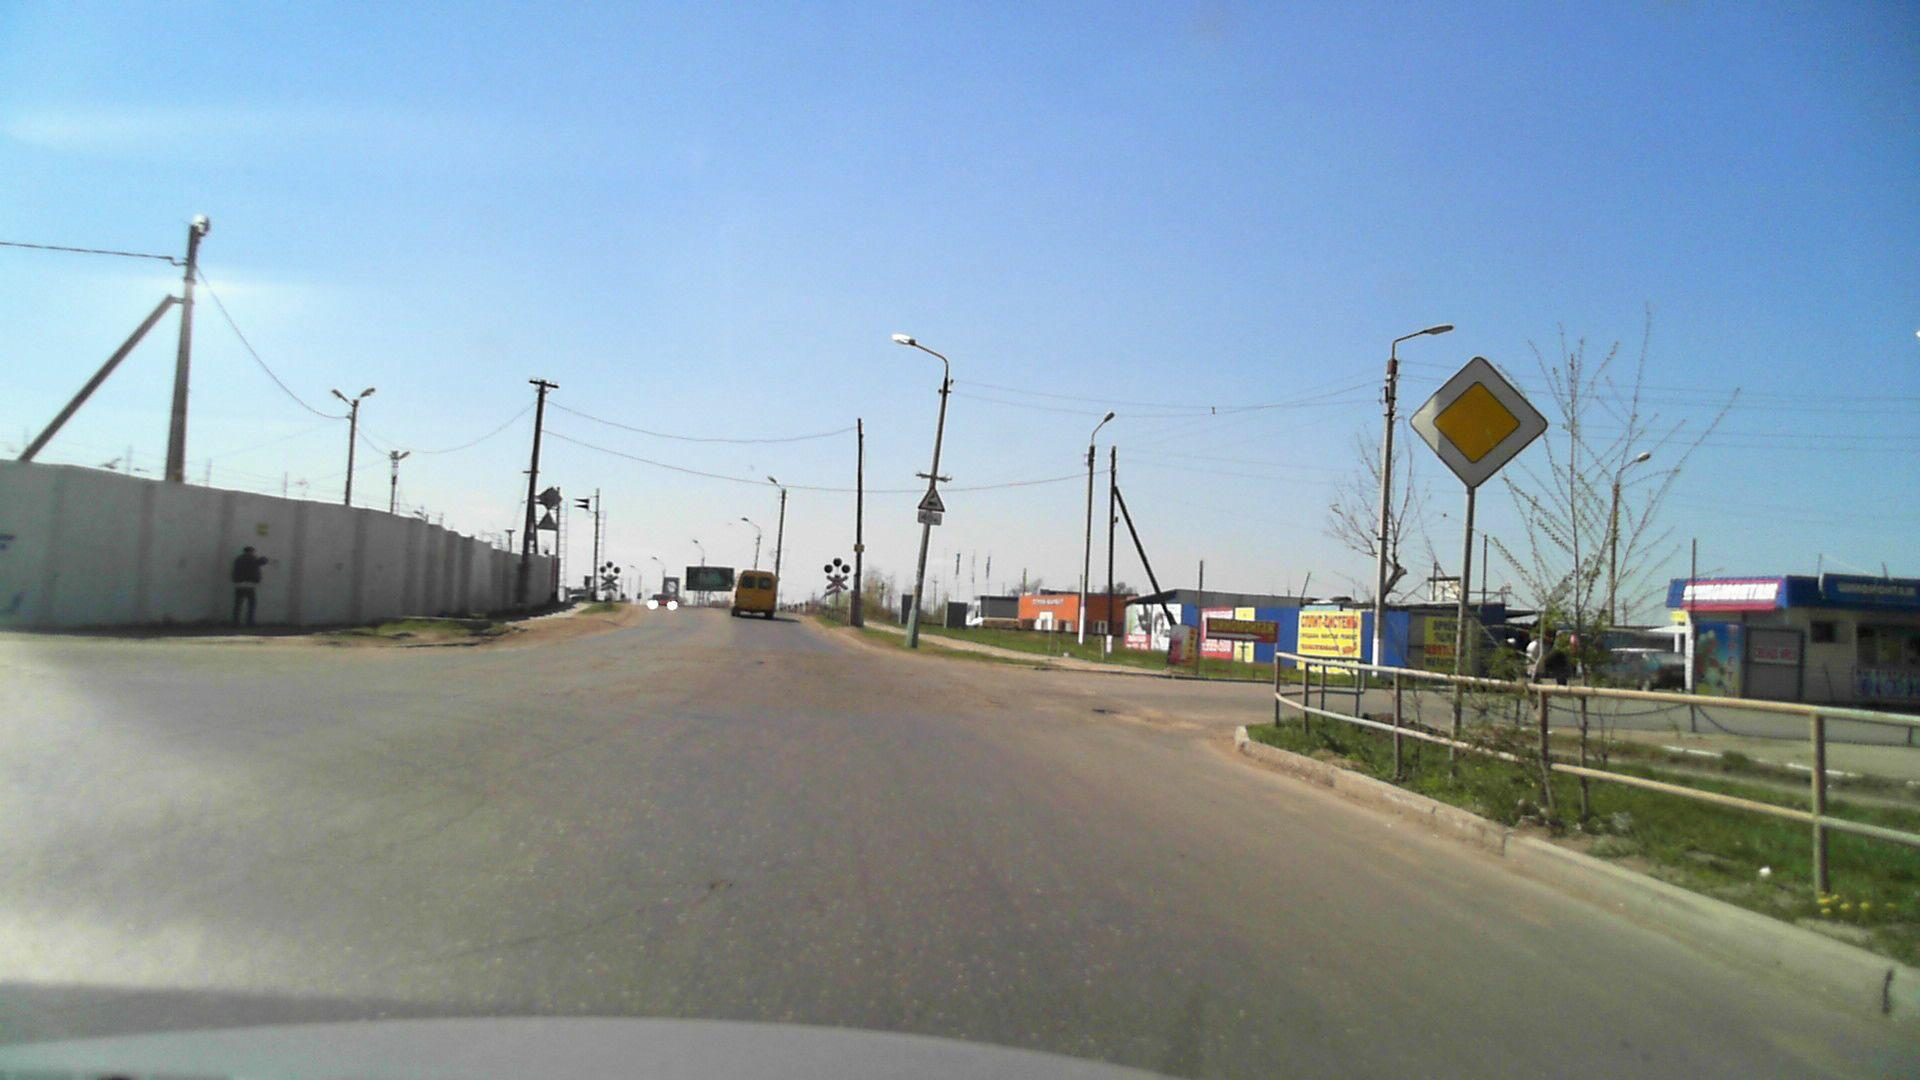1_2: (918, 487, 949, 509)
1_3_2: (825, 578, 849, 596)
2_1: (1402, 353, 1555, 493)
8_1_1: (918, 510, 944, 526)
